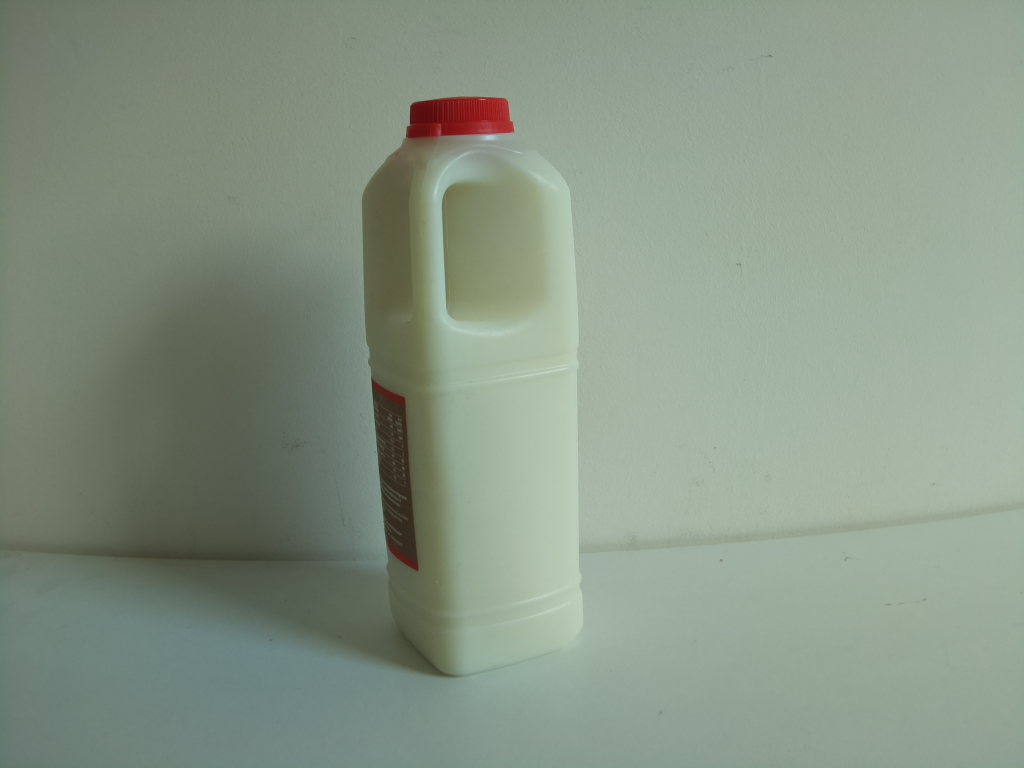milk: (352, 89, 598, 680)
